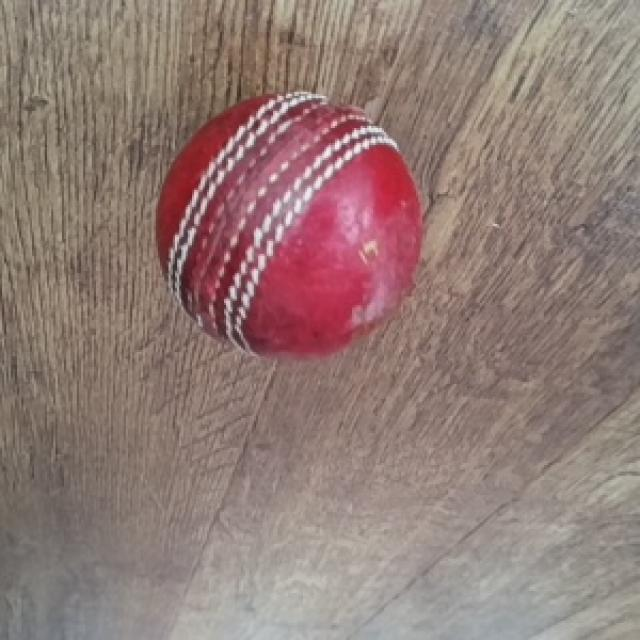ball: (154, 92, 425, 365)
